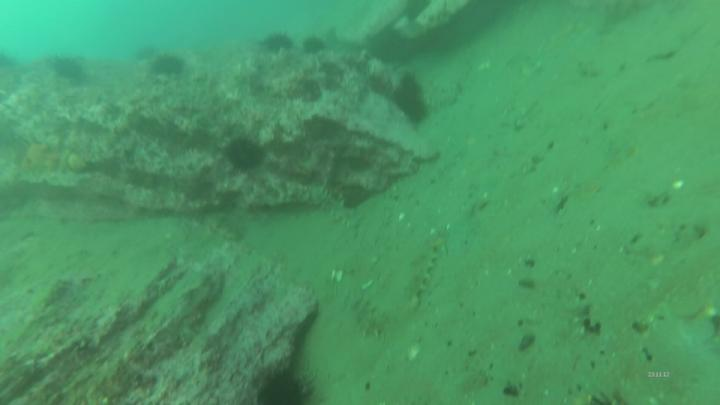echinus: (221, 133, 271, 176), (391, 72, 430, 123), (50, 54, 91, 85), (152, 54, 190, 81), (260, 31, 297, 53), (304, 35, 329, 54)
holothurian: (402, 228, 452, 305), (347, 287, 386, 345)
